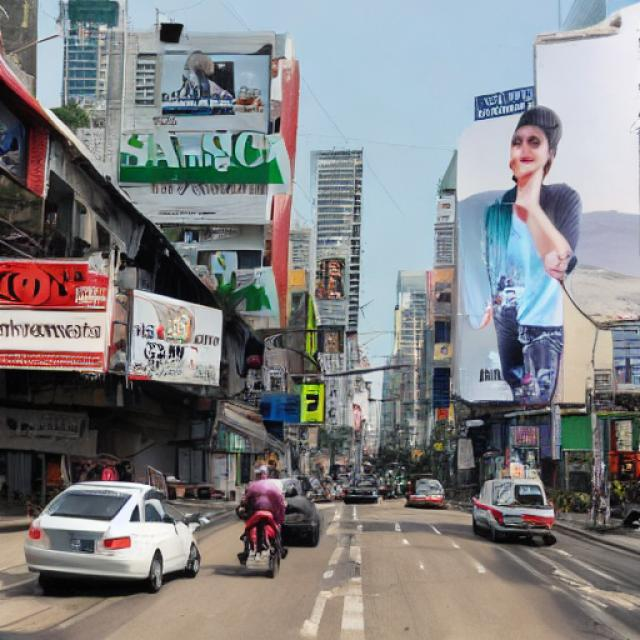Billboard: (449, 85, 630, 411)
